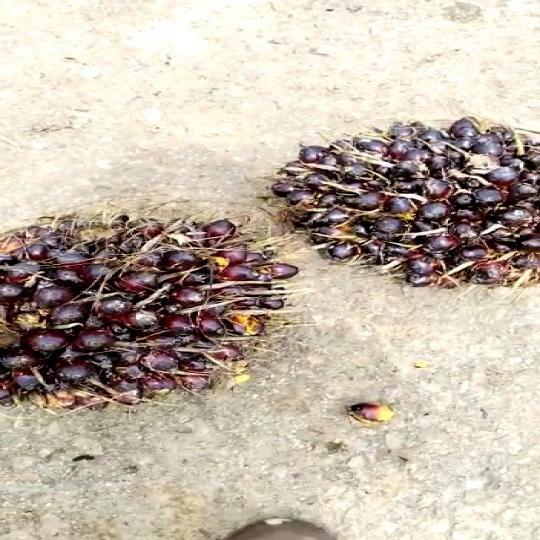kurang masak: (249, 110, 540, 289), (0, 196, 275, 382)
